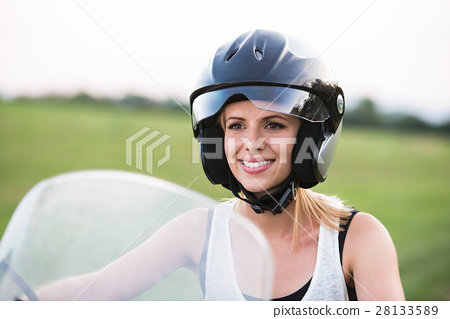helmet: (193, 37, 333, 169)
